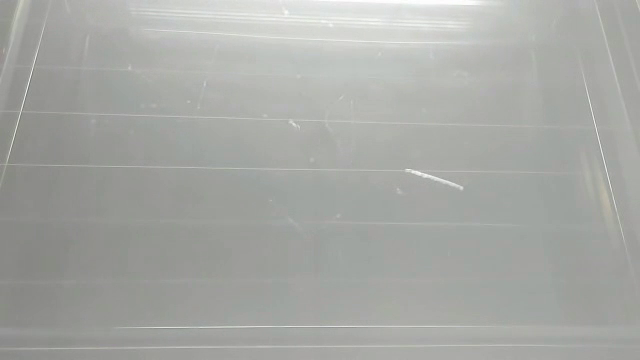alpha: (402, 163, 466, 194)
